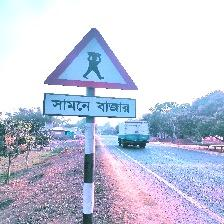Market-in-front: (43, 28, 139, 118)
